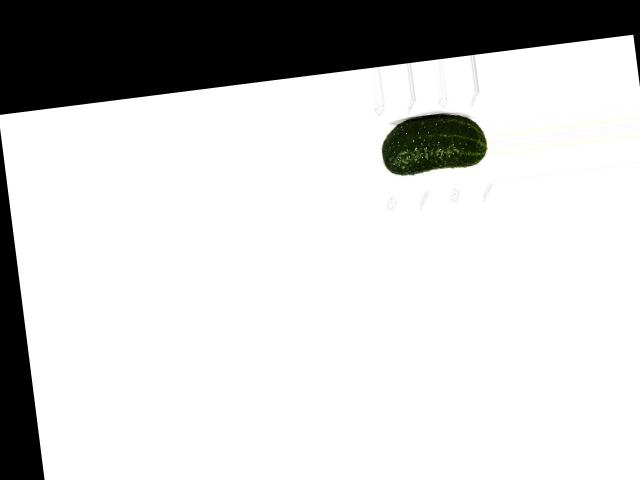cucumber: (377, 108, 489, 176)
